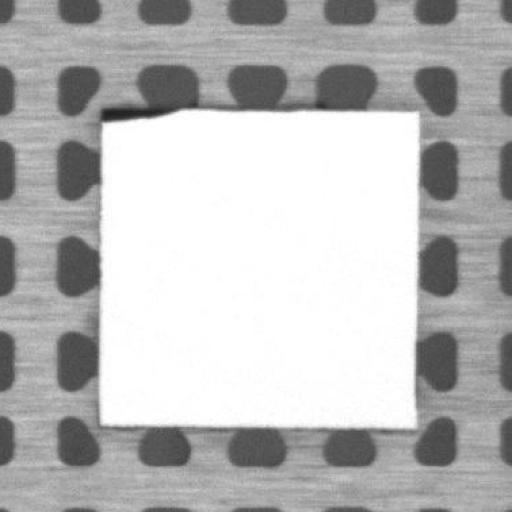DIE_BROKEN: (95, 99, 200, 124)
